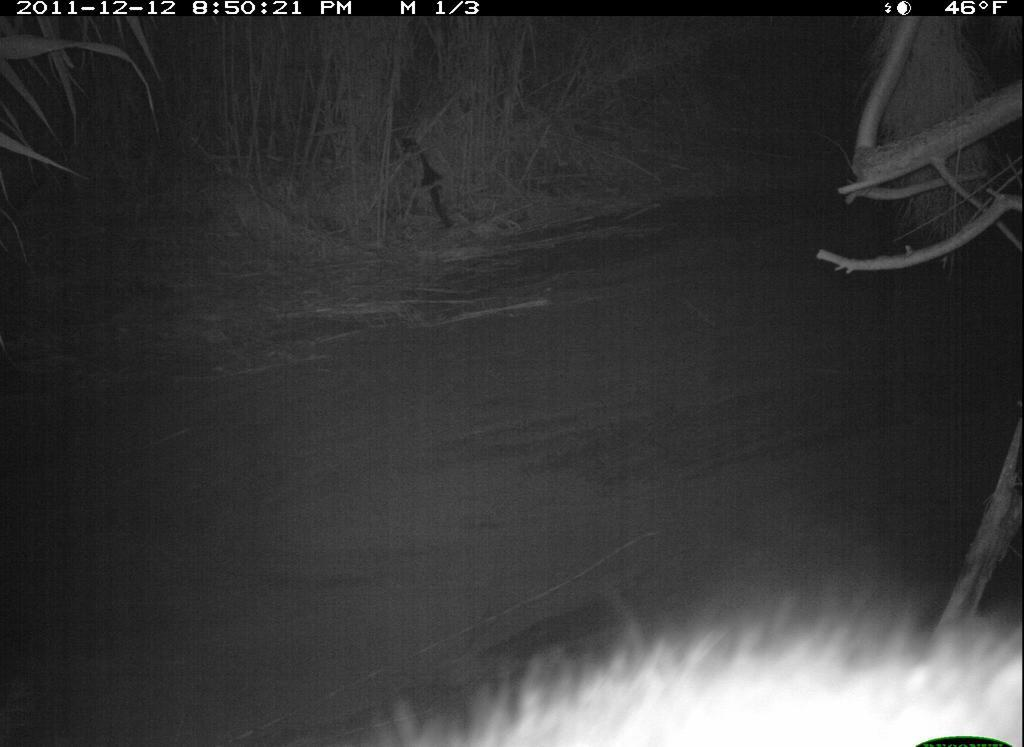raccoon: (324, 579, 1022, 744)
